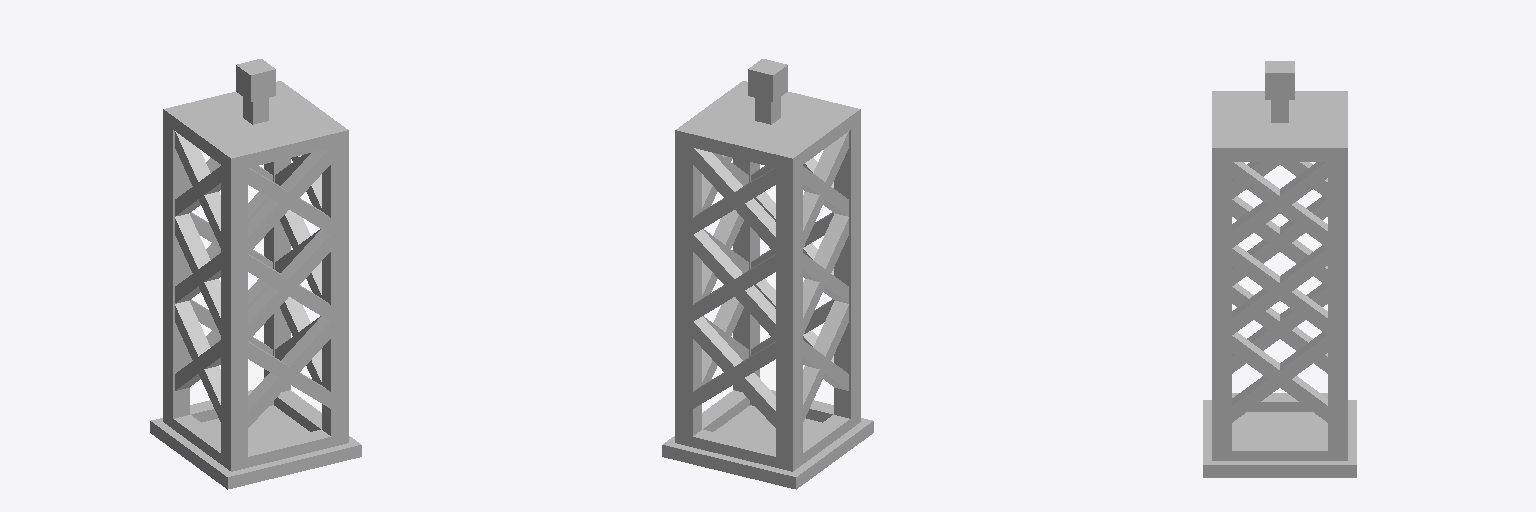
Rendered from Тесла 1.obj.
3 renders of one model, left to right at view 1: azimuth 30°, elevation 25°; view 2: azimuth 150°, elevation 25°; view 3: azimuth 270°, elevation 25°, orthographic.
Visible parts, largest first — view 1: Cube.001, Cube.003_Cube.007, Cube.005_Cube.006, Cube, Cube.002, Cube.006_Cube.009, Cube.007_Cube.010, Cube.004_Cube.008; view 2: Cube.001, Cube.003_Cube.007, Cube.005_Cube.006, Cube, Cube.002, Cube.006_Cube.009, Cube.007_Cube.010, Cube.004_Cube.008; view 3: Cube.005_Cube.006, Cube.001, Cube, Cube.002, Cube.006_Cube.009, Cube.004_Cube.008.
Boxes of the visible parts, box(x1,y1,x2,y2) form: Cube.001: box(163, 123, 348, 471); Cube.003_Cube.007: box(190, 148, 330, 427); Cube.005_Cube.006: box(175, 131, 321, 421); Cube: box(163, 81, 348, 171); Cube.002: box(150, 405, 361, 489); Cube.006_Cube.009: box(173, 390, 321, 463); Cube.007_Cube.010: box(190, 390, 330, 467); Cube.004_Cube.008: box(236, 59, 275, 101); Cube.001: box(675, 123, 860, 471); Cube.003_Cube.007: box(693, 148, 833, 427); Cube.005_Cube.006: box(702, 131, 848, 421); Cube: box(675, 81, 860, 171); Cube.002: box(662, 405, 873, 489); Cube.006_Cube.009: box(702, 390, 850, 463); Cube.007_Cube.010: box(693, 390, 833, 467); Cube.004_Cube.008: box(748, 59, 787, 101); Cube.005_Cube.006: box(1232, 162, 1327, 422); Cube.001: box(1212, 162, 1347, 460); Cube: box(1212, 91, 1347, 161); Cube.002: box(1203, 400, 1356, 477); Cube.006_Cube.009: box(1232, 393, 1327, 460); Cube.004_Cube.008: box(1265, 61, 1294, 99).
Size of the model in its own units: 2.28 by 6.16 by 2.28.